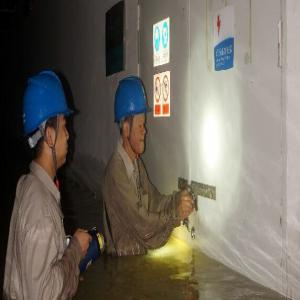blue: (24, 67, 73, 172), (114, 75, 150, 156)
